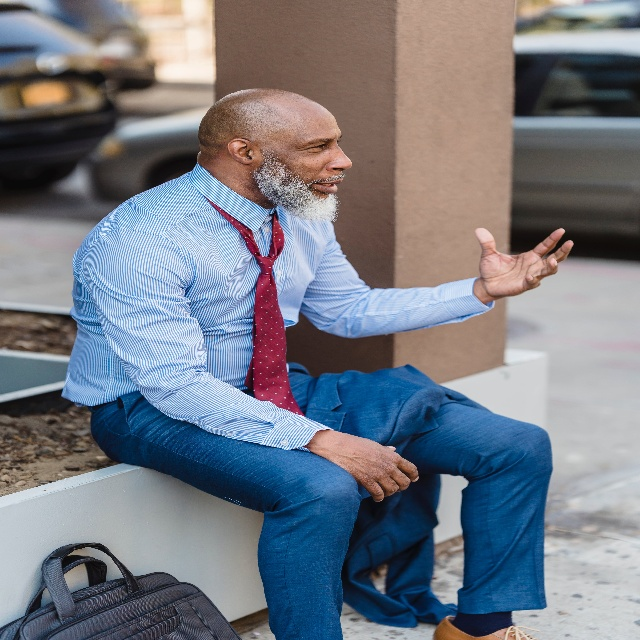Sin_guantes: (473, 222, 573, 299), (330, 428, 420, 503)
